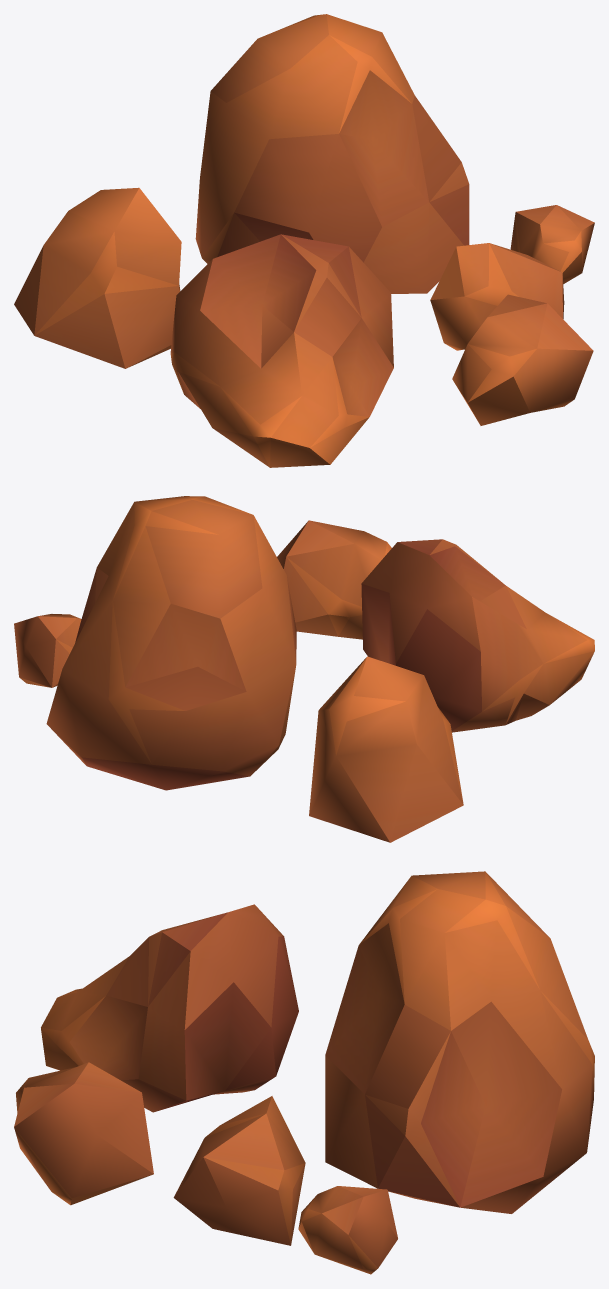
Rendered from Copper.glb.
3 renders of one model, top to bottom at view 1: azimuth 30°, elevation 25°; view 2: azimuth 150°, elevation 25°; view 3: azimuth 270°, elevation 25°, orthographic. The views are drawn at different scales.
Parts seen in each view (by area): view 1: Copper_Nuggets; view 2: Copper_Nuggets; view 3: Copper_Nuggets.
Part boxes in pixels (x1,y1,x2,y2): Copper_Nuggets: [14, 14, 594, 467]; Copper_Nuggets: [14, 496, 594, 842]; Copper_Nuggets: [14, 871, 594, 1274].
Bounding box in the file's own units: 0.9288 × 0.4749 × 0.8501.
Materials: 1 (1 with a texture image).
